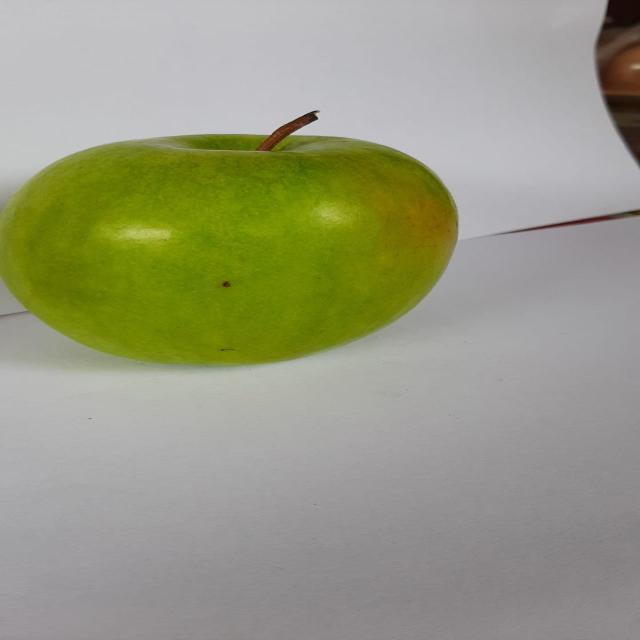50-_ripeness: (6, 106, 467, 378)
